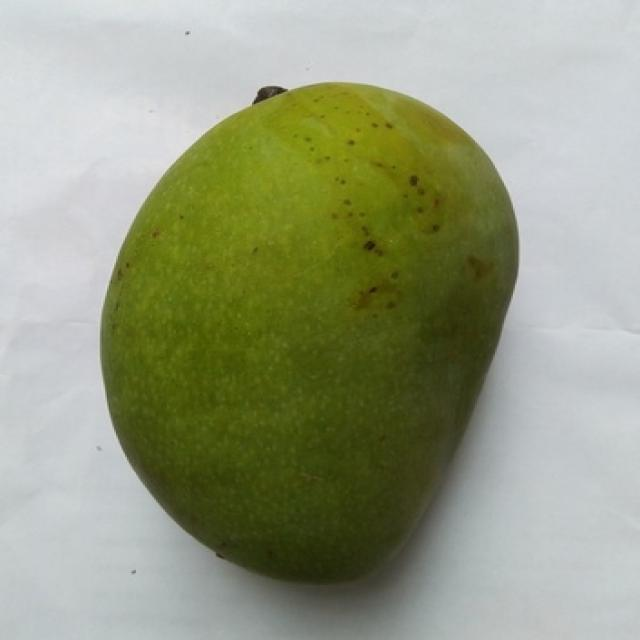Mango: (102, 85, 517, 580)
